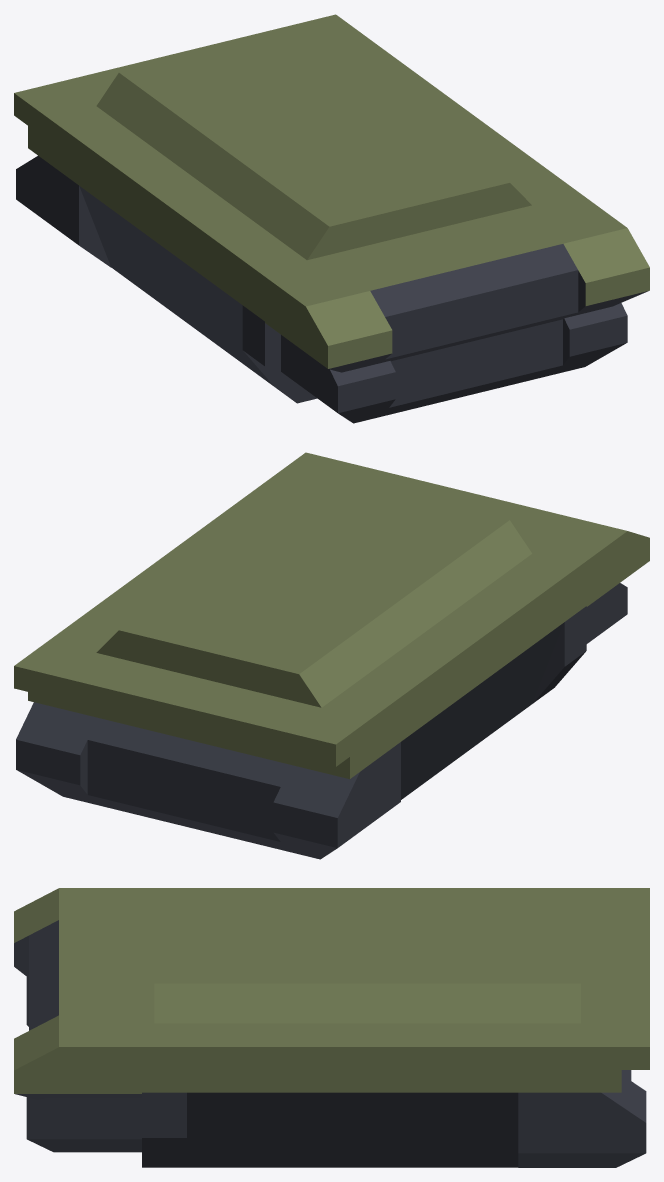
File: Body (Tank).fbx
3 views of the same model, one above another, from view 1: azimuth 30°, elevation 25°; view 2: azimuth 150°, elevation 25°; view 3: azimuth 270°, elevation 25° (orthographic).
Visible parts, largest first — view 1: mergedBlocks; view 2: mergedBlocks; view 3: mergedBlocks.
Part boxes in pixels (x1,y1,x2,y2): mergedBlocks: (14,14,649,423); mergedBlocks: (14,452,649,859); mergedBlocks: (14,888,649,1167).
Size of the model in its own units: 30.01 by 14.53 by 50.7.
